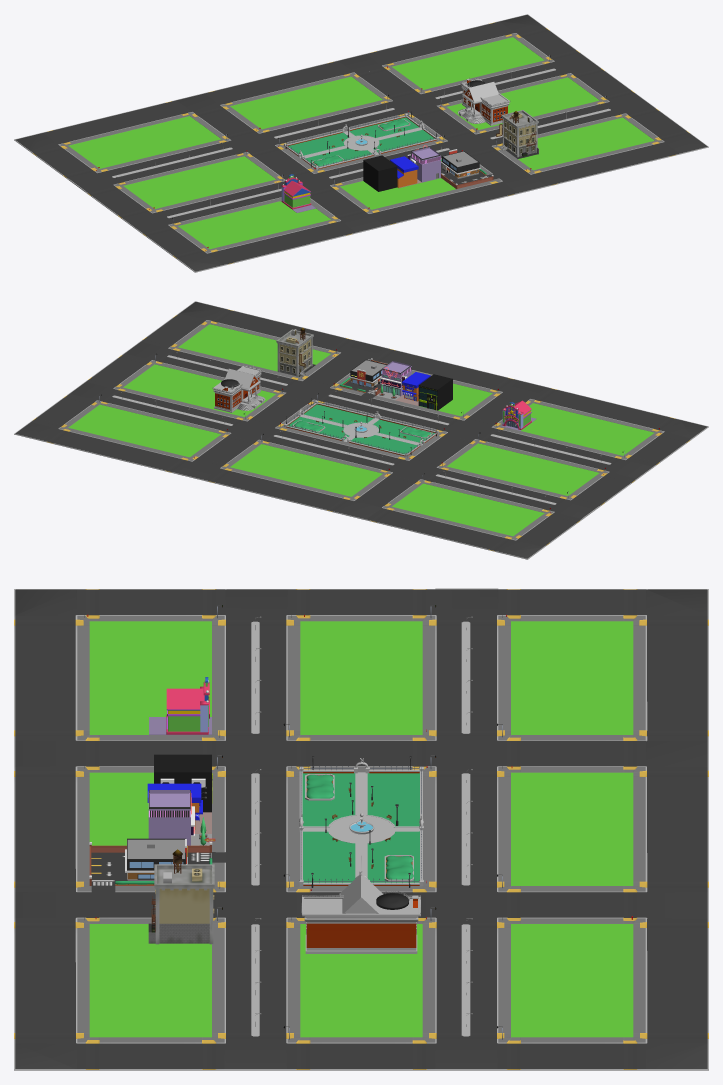
The model's file is building_City_World.fbx.
3 views of the same model, one above another, from view 1: azimuth 30°, elevation 25°; view 2: azimuth 150°, elevation 25°; view 3: azimuth 270°, elevation 25° (orthographic). The views are drawn at different scales.
Parts seen in each view (by area): view 1: Ruas, ruas e quadras.001, ruas e quadras.006, ruas e quadras.007, ruas e quadras.003, ruas e quadras.008, ruas e quadras.005, square, ruas e quadras.004, ruas e quadras.009, CityHall.001, main_structure (+6 smaller); view 2: Ruas, ruas e quadras.001, ruas e quadras.003, ruas e quadras.006, ruas e quadras.007, ruas e quadras.008, ruas e quadras.005, ruas e quadras.004, square, CityHall.001, ruas e quadras.009, main_structure (+6 smaller); view 3: Ruas, ruas e quadras.007, ruas e quadras.006, ruas e quadras.003, ruas e quadras.001, ruas e quadras.005, ruas e quadras.008, ruas e quadras.004, square, ruas e quadras.009, CityHall.001, main_structure (+12 smaller).
Part boxes in pixels (x1,y1,x2,y2): Ruas: [14, 14, 708, 272]; ruas e quadras.001: [221, 72, 391, 133]; ruas e quadras.006: [59, 112, 230, 172]; ruas e quadras.007: [114, 152, 285, 212]; ruas e quadras.003: [383, 33, 553, 93]; ruas e quadras.008: [169, 197, 339, 252]; ruas e quadras.005: [492, 113, 663, 173]; square: [284, 113, 438, 169]; ruas e quadras.004: [438, 73, 608, 133]; ruas e quadras.009: [331, 158, 501, 213]; CityHall.001: [457, 78, 510, 125]; main_structure: [500, 110, 538, 157]; Ruas: [14, 301, 708, 559]; ruas e quadras.001: [221, 440, 391, 500]; ruas e quadras.003: [59, 400, 230, 460]; ruas e quadras.006: [383, 479, 553, 539]; ruas e quadras.007: [437, 439, 608, 499]; ruas e quadras.008: [492, 399, 663, 459]; ruas e quadras.005: [169, 320, 339, 380]; ruas e quadras.004: [114, 360, 284, 420]; square: [284, 400, 438, 456]; CityHall.001: [212, 365, 265, 412]; ruas e quadras.009: [331, 359, 501, 420]; main_structure: [276, 329, 313, 376]; Ruas: [14, 588, 708, 1070]; ruas e quadras.007: [287, 615, 435, 740]; ruas e quadras.006: [498, 615, 645, 740]; ruas e quadras.003: [498, 918, 645, 1043]; ruas e quadras.001: [498, 767, 645, 891]; ruas e quadras.005: [77, 918, 224, 1043]; ruas e quadras.008: [77, 615, 224, 740]; ruas e quadras.004: [287, 918, 435, 1043]; square: [299, 765, 423, 886]; ruas e quadras.009: [77, 767, 224, 891]; CityHall.001: [301, 856, 420, 953]; main_structure: [154, 864, 214, 944].
Bounding box in the file's own units: 270 × 165 × 21.53.
